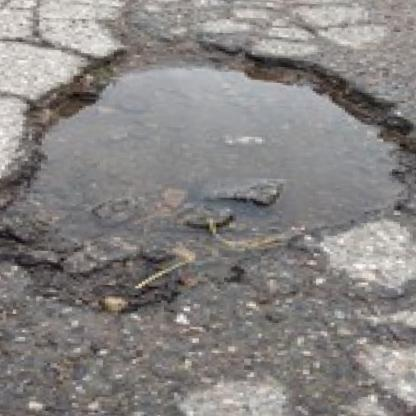pothole: (0, 26, 416, 325)
